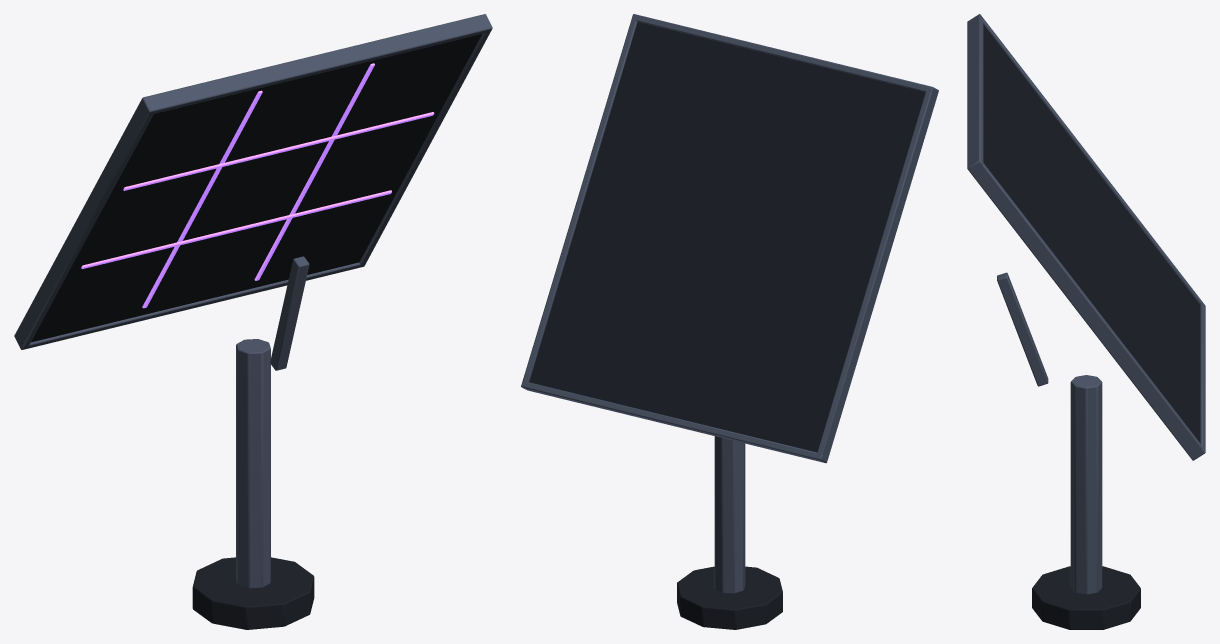
Rendered from solar_fin.glb.
3 renders of one model, left to right at view 1: azimuth 30°, elevation 25°; view 2: azimuth 150°, elevation 25°; view 3: azimuth 270°, elevation 25°, orthographic. The views are drawn at different scales.
Parts seen in each view (by area): view 1: solar_fin; view 2: solar_fin; view 3: solar_fin.
Part boxes in pixels (x1=…): solar_fin: x1=14, y1=14, x2=492, y2=629; solar_fin: x1=521, y1=14, x2=938, y2=629; solar_fin: x1=967, y1=14, x2=1205, y2=629.
Bounding box in the file's own units: 1.53 × 2.52 × 1.05.
